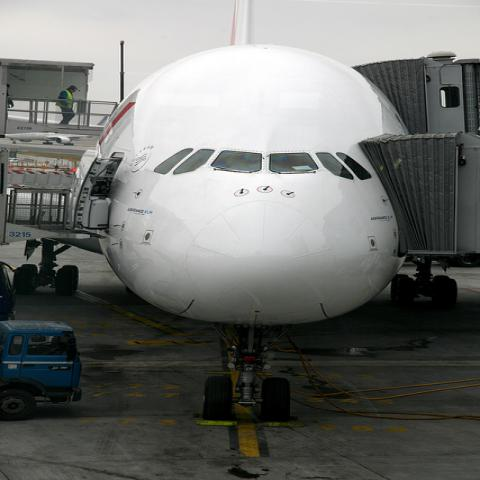truck: (0, 321, 81, 422)
